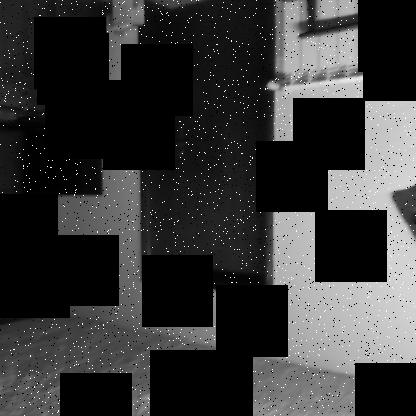Porte: (138, 1, 277, 299)
